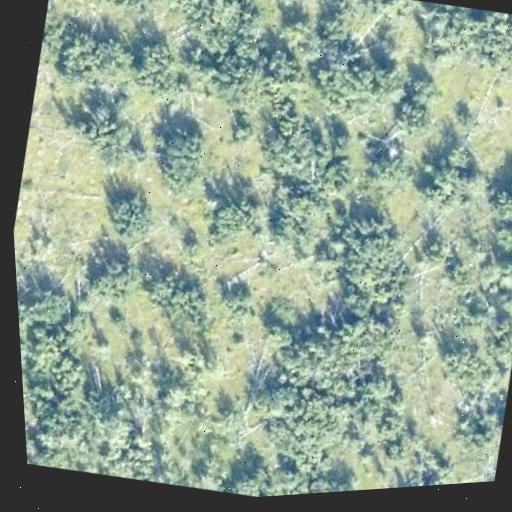tree-top: (318, 204, 440, 316), (28, 369, 150, 468), (279, 302, 394, 396), (47, 14, 144, 104), (404, 0, 512, 77), (249, 97, 339, 184), (138, 263, 234, 339), (189, 36, 274, 117), (262, 176, 341, 262), (308, 38, 391, 119), (66, 96, 146, 175), (430, 324, 510, 403), (125, 25, 199, 109), (414, 131, 489, 213), (176, 0, 277, 58), (380, 60, 455, 138), (145, 121, 216, 196), (93, 181, 167, 252), (296, 381, 364, 452), (203, 184, 270, 250), (77, 245, 145, 310), (273, 11, 339, 74), (251, 28, 313, 93), (244, 370, 307, 432), (359, 139, 420, 195), (445, 283, 505, 338), (300, 444, 365, 494), (26, 280, 79, 336), (19, 326, 67, 384), (45, 349, 95, 400), (214, 275, 262, 328), (307, 1, 356, 50), (95, 0, 197, 23), (360, 402, 409, 449), (360, 366, 405, 412), (466, 388, 509, 436), (473, 256, 512, 306), (221, 462, 272, 499), (152, 372, 192, 415), (315, 460, 366, 493), (482, 311, 512, 364), (272, 459, 311, 496), (480, 216, 512, 261), (380, 432, 416, 471), (175, 230, 209, 267), (17, 291, 41, 339), (494, 154, 512, 216), (226, 116, 255, 144), (19, 326, 34, 370), (202, 0, 284, 3), (507, 245, 512, 284)
